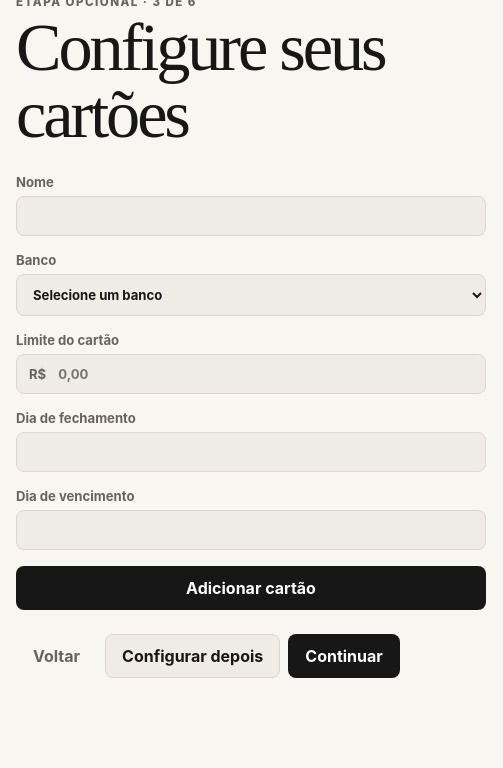
Scenario: assistente de primeiro acesso › permite voltar para a etapa anterior sem alterar o progresso salvo
(page scrolled)
Click the button "Voltar" at (57, 656), box x1=16 y1=634 x2=97 y2=678
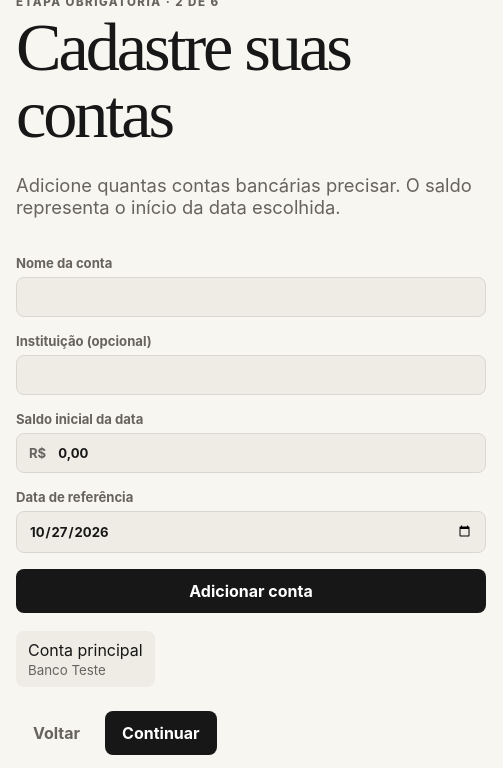
Expected: the heading "Cadastre suas contas" is shown, x1=16 y1=9 x2=350 y2=152
